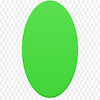green: (44, 55, 68, 80)
